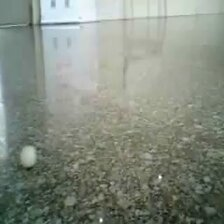w: (18, 144, 40, 169)
